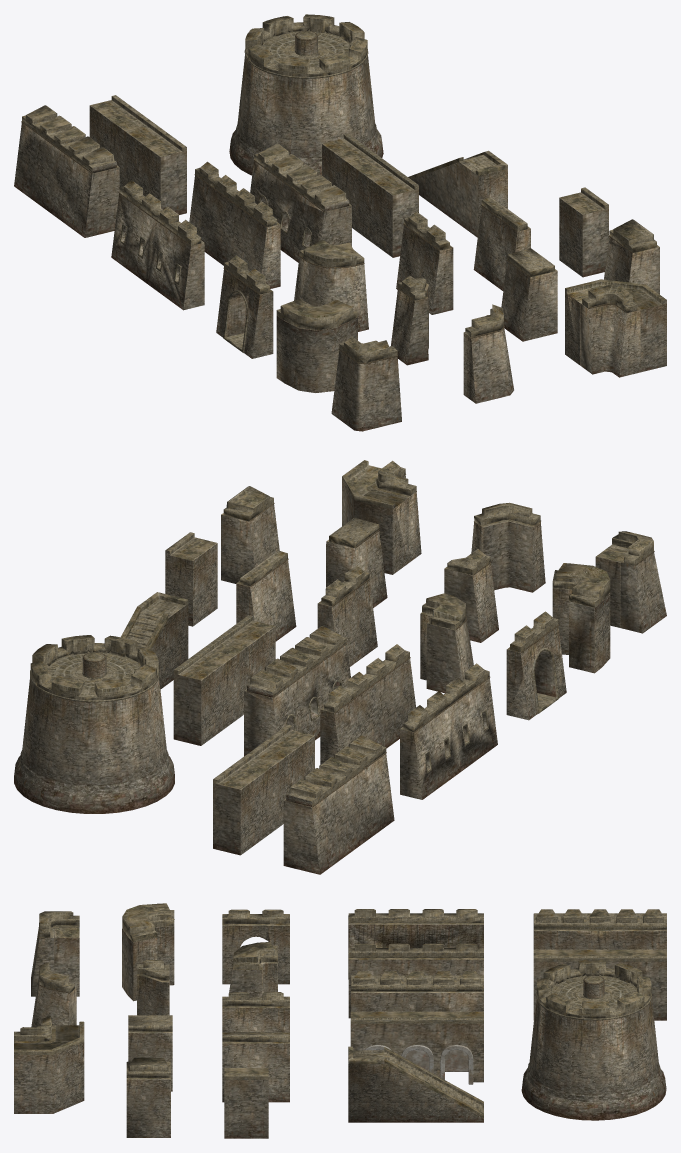
Rendered from modular_fort_01.glb.
3 renders of one model, top to bottom at view 1: azimuth 30°, elevation 25°; view 2: azimuth 150°, elevation 25°; view 3: azimuth 270°, elevation 25°, orthographic. The views are drawn at different scales.
Visible parts, largest first — view 1: modular_fort_01_wall_thick_corner_02; view 2: modular_fort_01_wall_thick_corner_02; view 3: modular_fort_01_wall_thick_corner_02, modular_fort_01_wall_walkway_straight_01.
Boxes of the visible parts, x1=… form: modular_fort_01_wall_thick_corner_02: x1=14, y1=14, x2=666, y2=431; modular_fort_01_wall_thick_corner_02: x1=14, y1=460, x2=666, y2=874; modular_fort_01_wall_thick_corner_02: x1=14, y1=903, x2=666, y2=1138; modular_fort_01_wall_walkway_straight_01: x1=365, y1=1045, x2=473, y2=1084.
Bounding box in the file's own units: 42.67 × 13.67 × 71.38.
3 materials, 3 textured.
